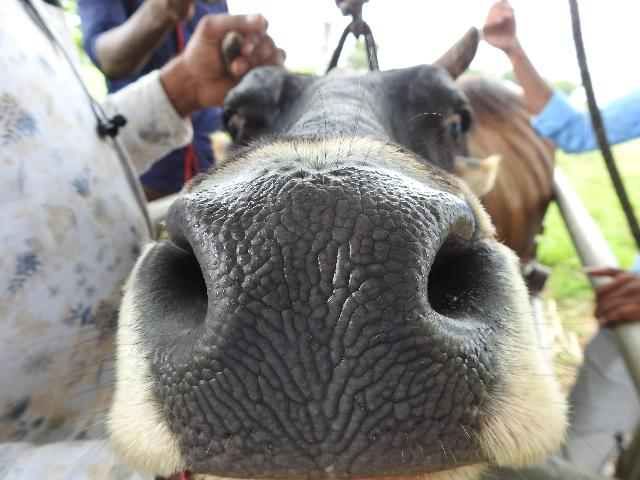Muzzle: (202, 191, 424, 466)
